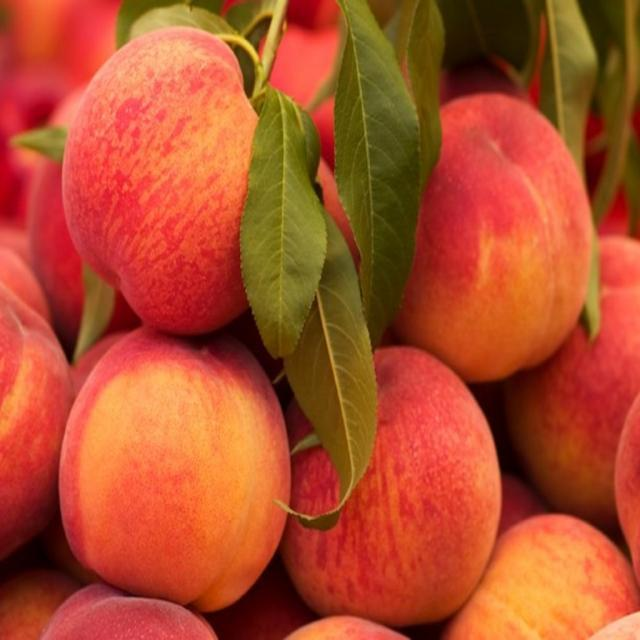Peach: (0, 0, 639, 638), (58, 327, 286, 612)
